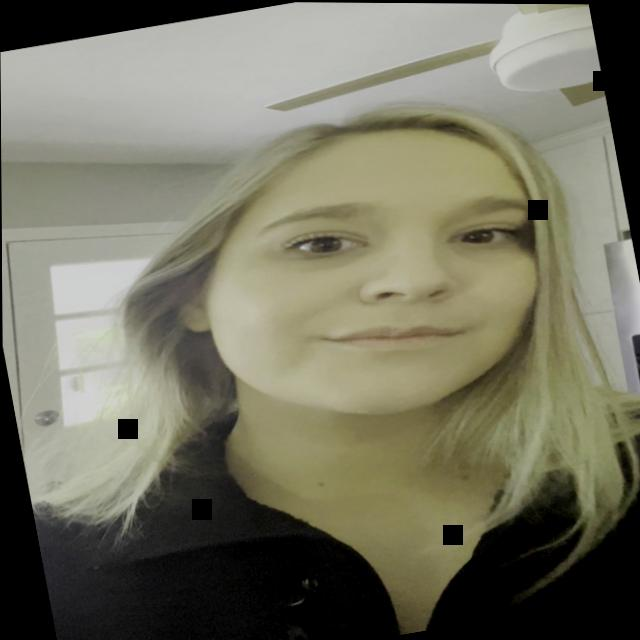NO-Mask: (151, 100, 587, 487)
